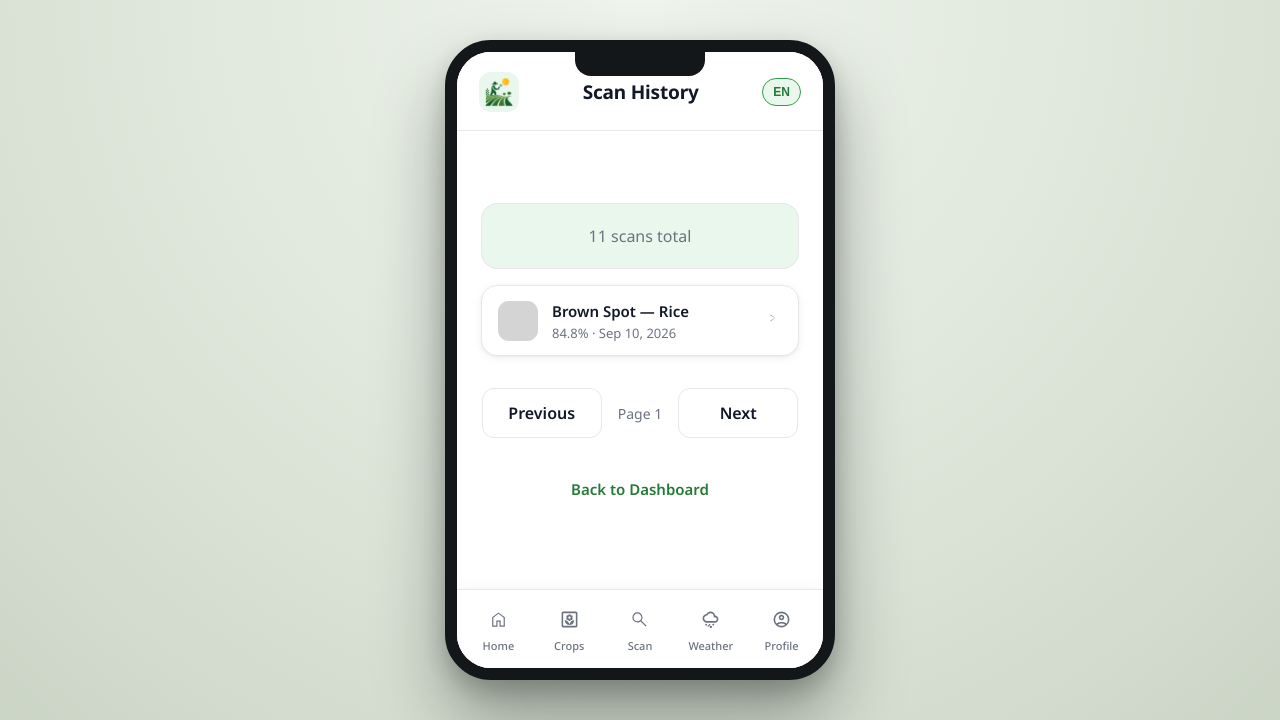
ScanHistoryPage › pages forward and back using the server's next/previous cursors
Expected: the text "Page 1" is shown, [618,403,662,424]
Expected: the button "Previous" is disabled, [482,388,602,438]
Click the button "Next": (738, 413) [678,388,798,438]
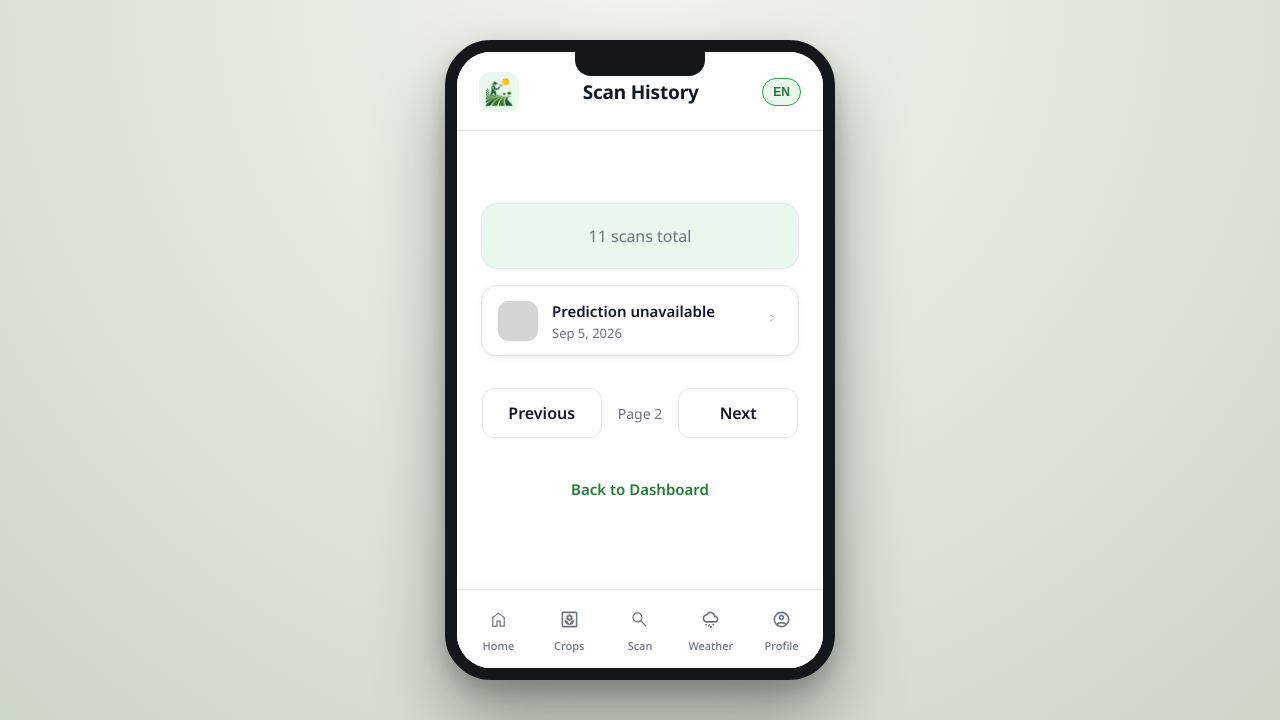
Expected: the text "Page 2" is shown, [618,403,662,424]
